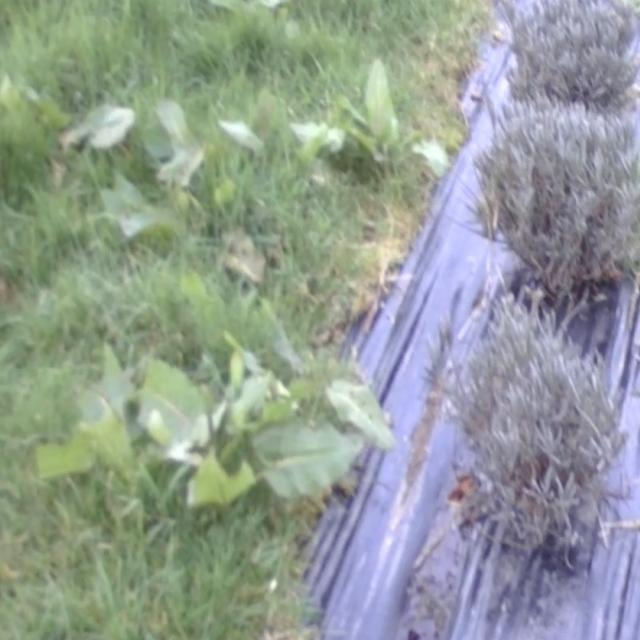organic waste: (59, 305, 384, 526), (71, 60, 265, 273), (284, 55, 487, 180)
